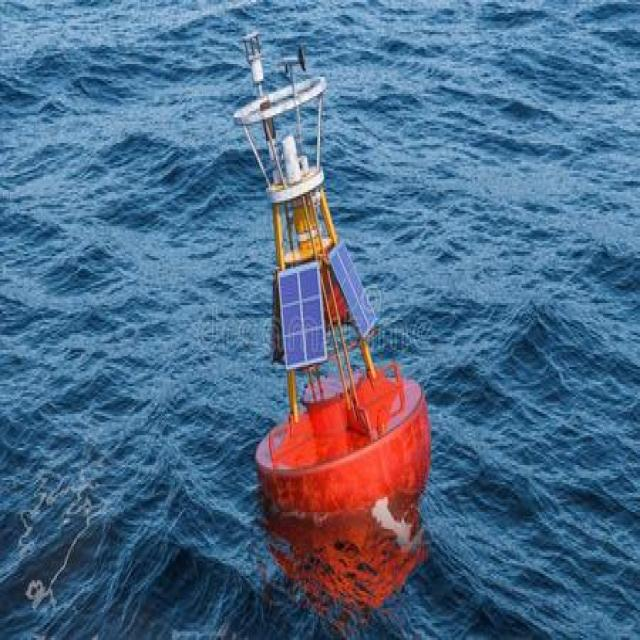buoy: (229, 25, 432, 515)
